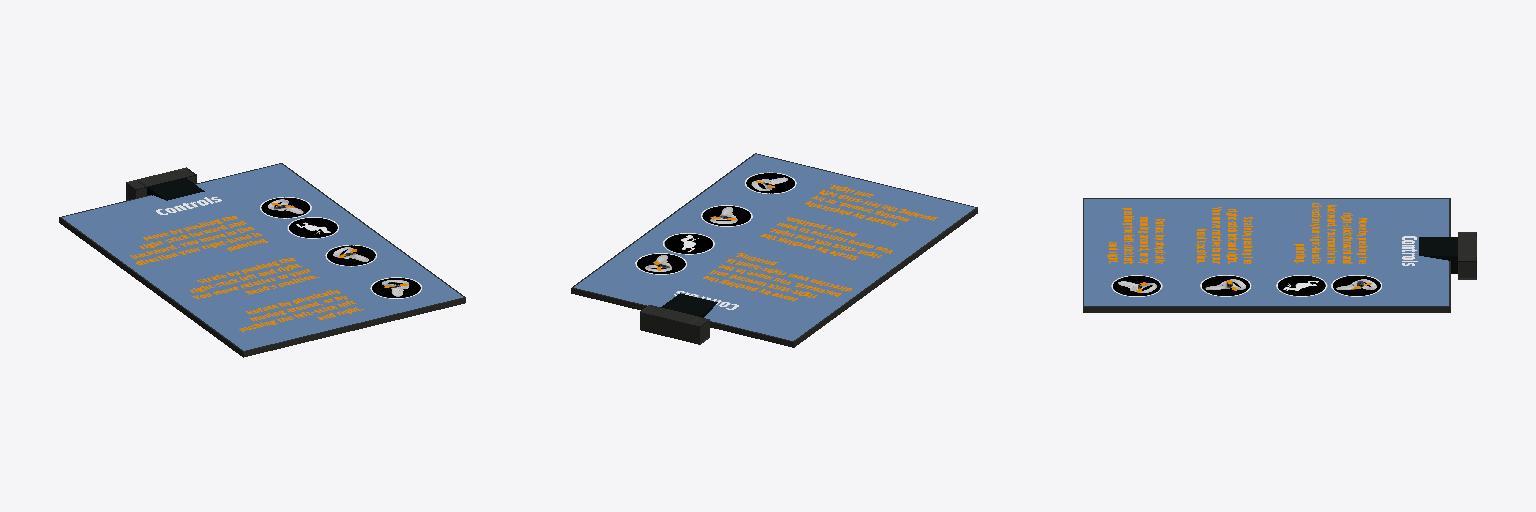
The picture shows the model from 3 angles: view 1: azimuth 30°, elevation 25°; view 2: azimuth 150°, elevation 25°; view 3: azimuth 270°, elevation 25°; orthographic projection.
Visible parts, largest first — view 1: clipboard_tutorial_3_clipboard; view 2: clipboard_tutorial_3_clipboard; view 3: clipboard_tutorial_3_clipboard.
Boxes of the visible parts, x1=… form: clipboard_tutorial_3_clipboard: x1=59, y1=163, x2=465, y2=357; clipboard_tutorial_3_clipboard: x1=571, y1=153, x2=977, y2=347; clipboard_tutorial_3_clipboard: x1=1083, y1=198, x2=1476, y2=312.
Bounding box in the file's own units: 0.2144 × 0.0169 × 0.3289.
Materials: 4 (2 with a texture image).